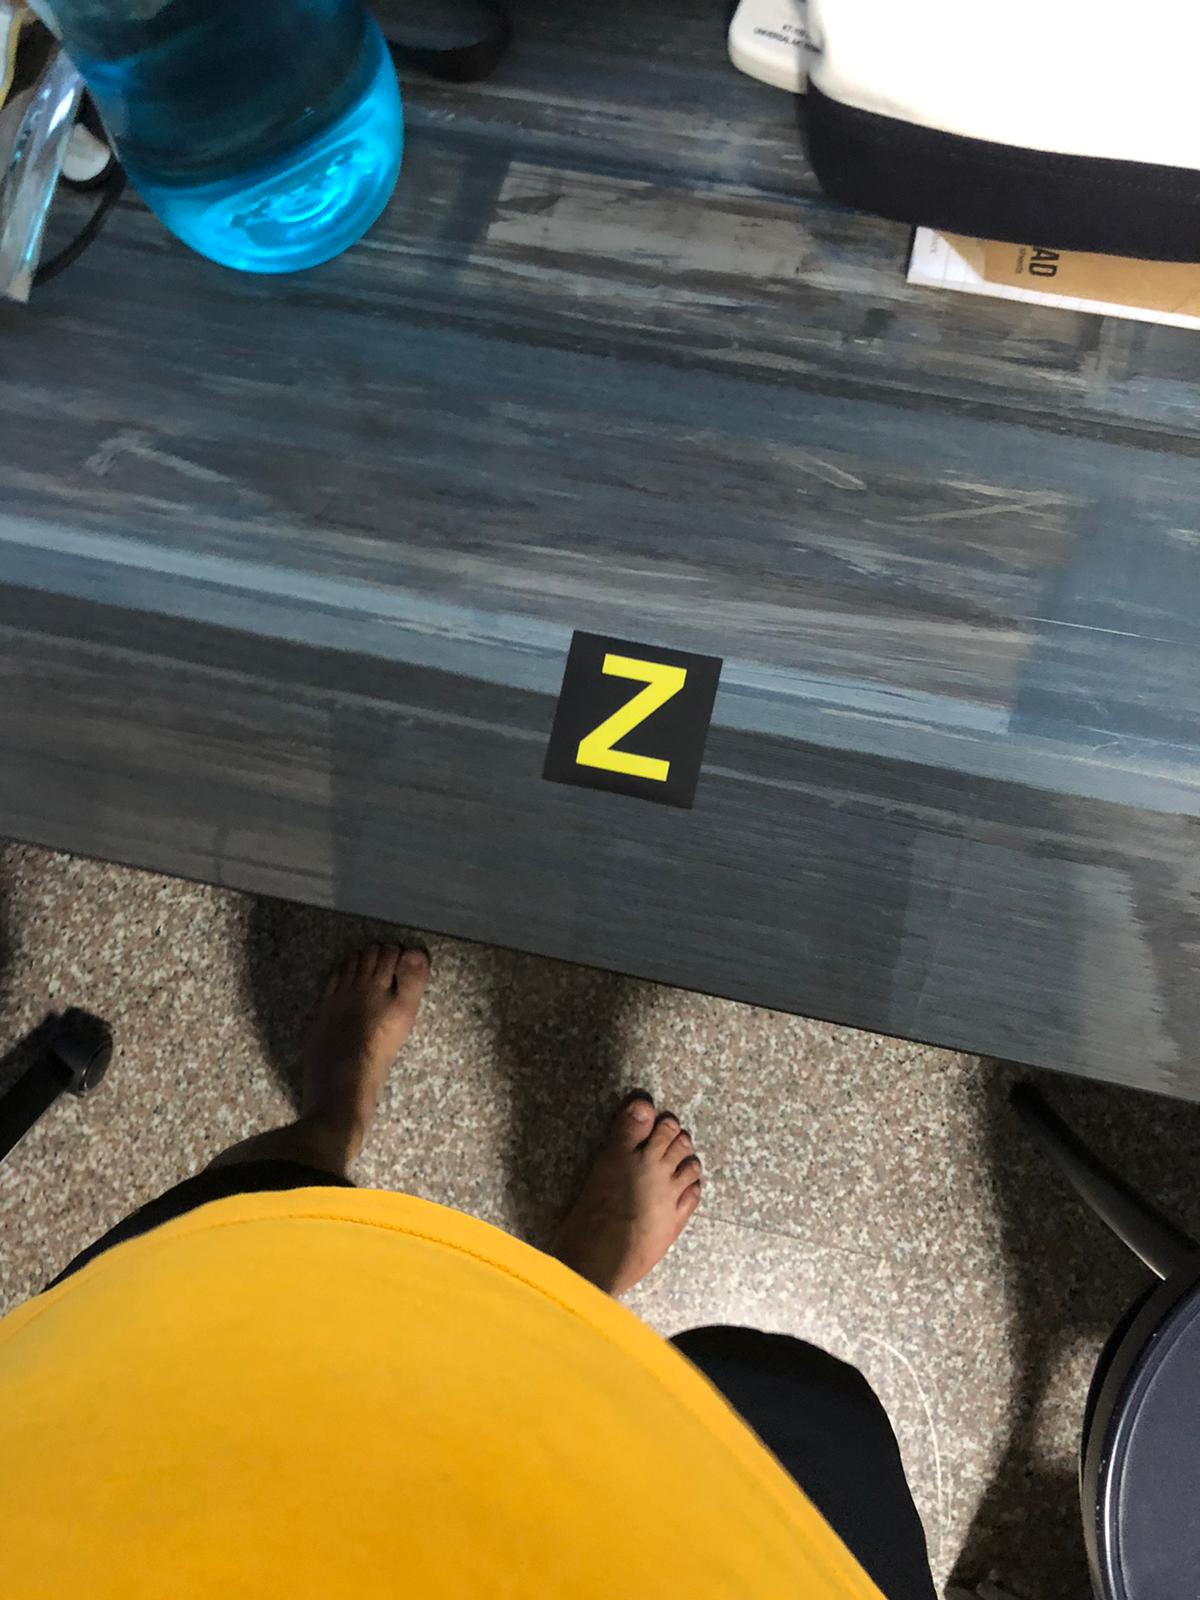Z: (556, 636, 711, 797)
